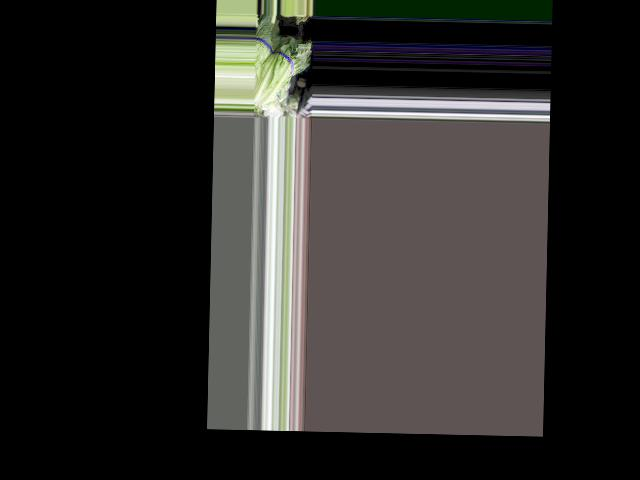lettuce: (253, 37, 307, 103)
